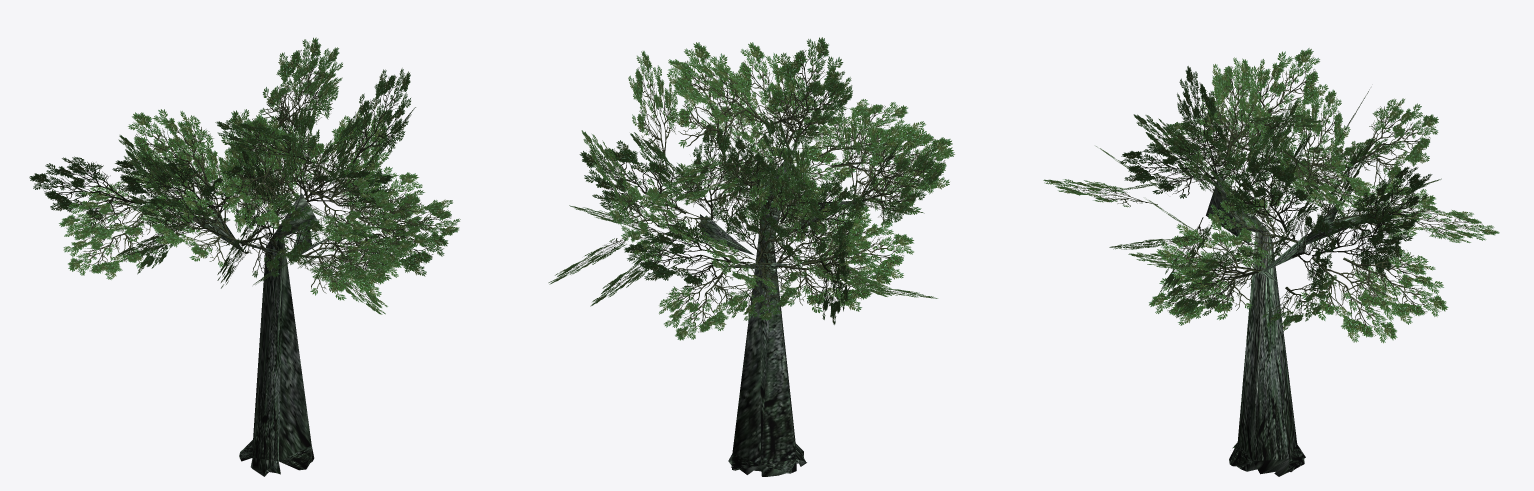
File: big_tree1_lod1.fbx
The picture shows the model from 3 angles, left to right: view 1: azimuth 30°, elevation 25°; view 2: azimuth 150°, elevation 25°; view 3: azimuth 270°, elevation 25°; orthographic projection. The views are drawn at different scales.
Visible parts, largest first — view 1: Plane.004; view 2: Plane.004; view 3: Plane.004.
Boxes of the visible parts, left/top/right/bottom form: Plane.004: left=29, top=37, right=460, bottom=476; Plane.004: left=548, top=37, right=954, bottom=476; Plane.004: left=1043, top=48, right=1499, bottom=476.
Bounding box in the file's own units: 1716 × 1669 × 1838.
1 material, 1 textured.
